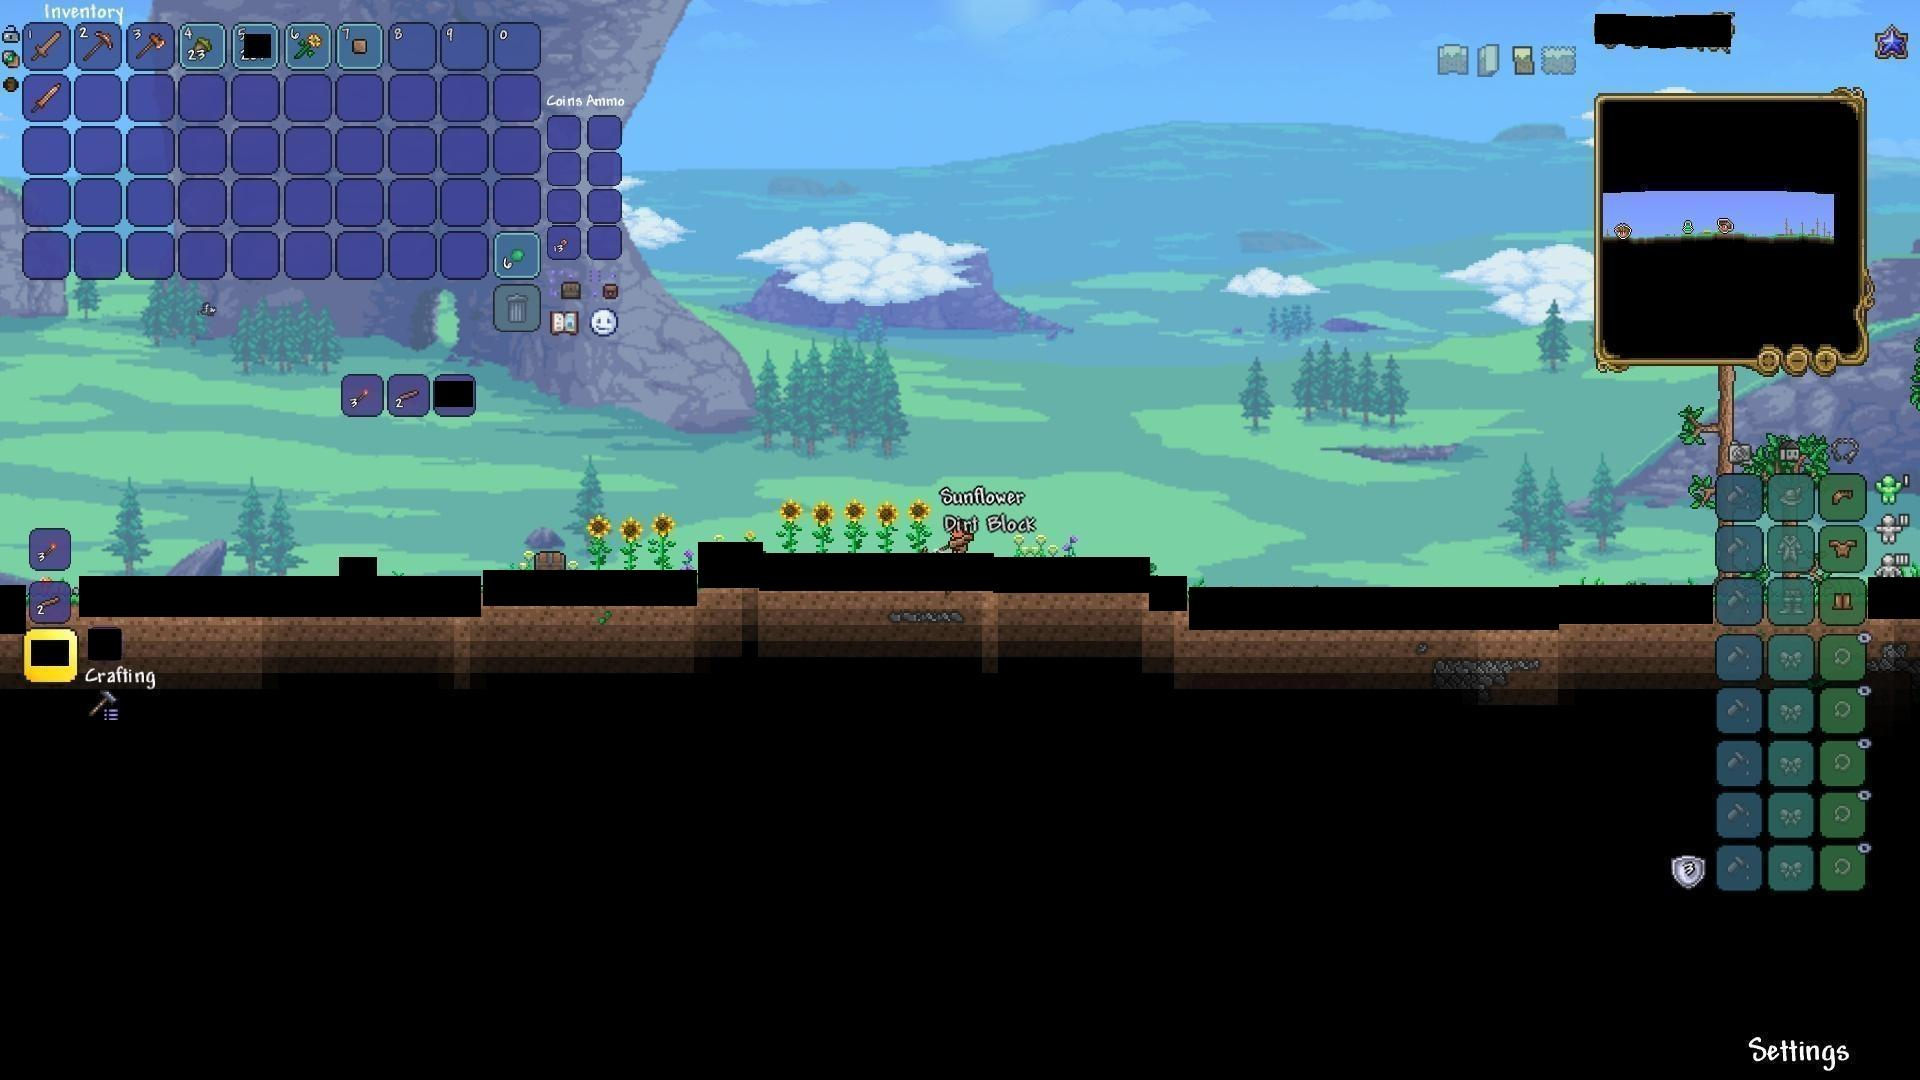breastplate: (1830, 537, 1859, 558)
helmet: (1829, 484, 1859, 512)
legs: (1832, 585, 1857, 615)
